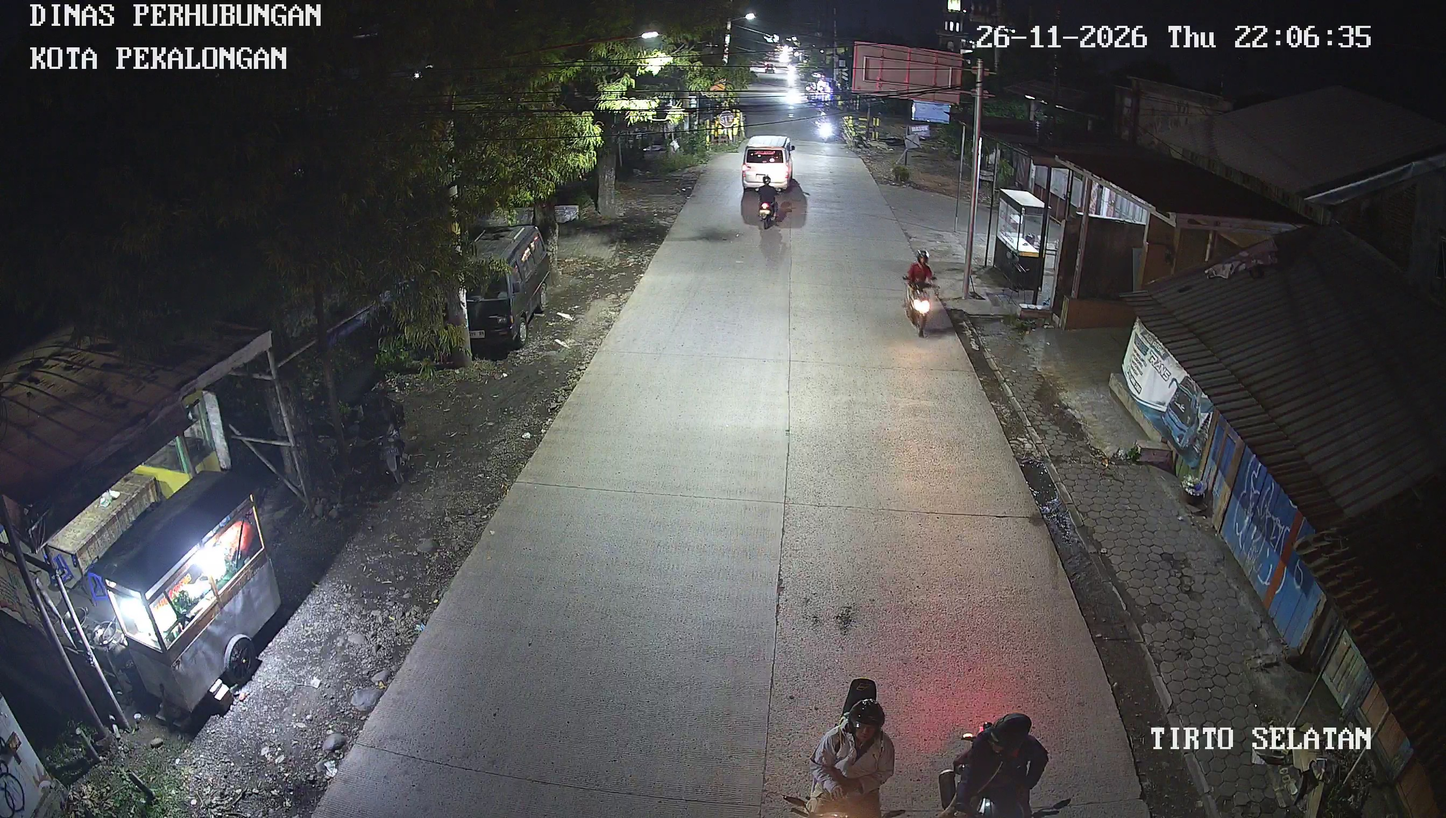Gerobak: (98, 466, 282, 724)
